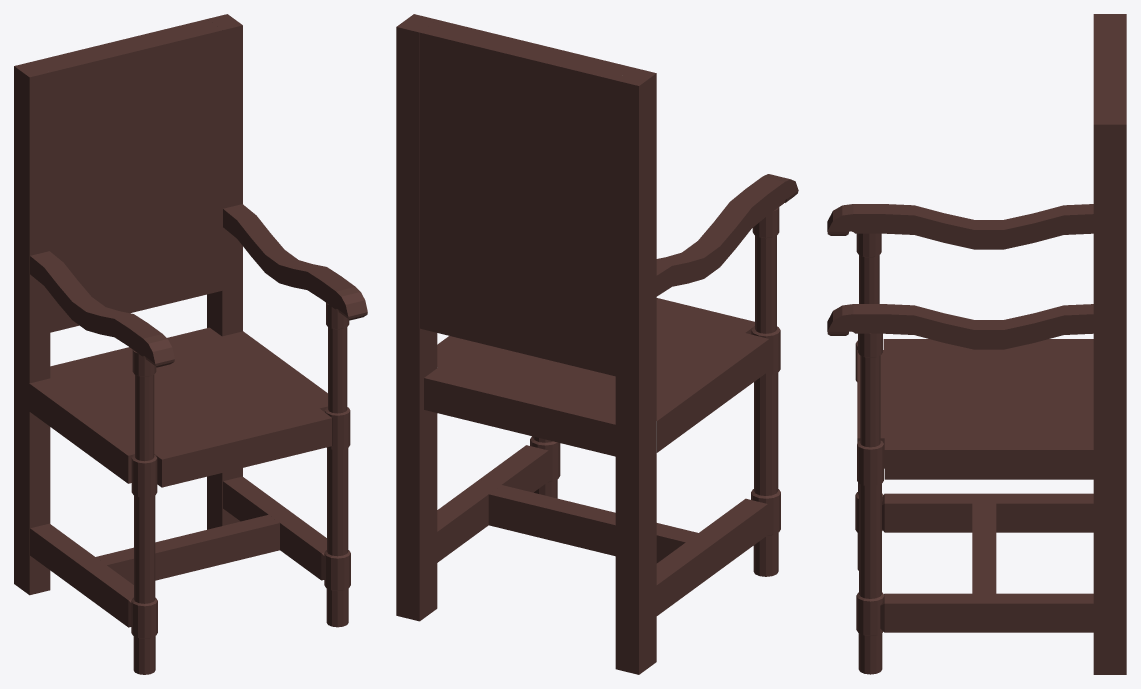
Rendered from Chair_Fancy.glb.
3 renders of one model, left to right at view 1: azimuth 30°, elevation 25°; view 2: azimuth 150°, elevation 25°; view 3: azimuth 270°, elevation 25°, orthographic. The views are drawn at different scales.
Visible parts, largest first — view 1: Chair; view 2: Chair; view 3: Chair.
Part boxes in pixels (left/top/right/bottom): Chair: left=14, top=14, right=367, bottom=674; Chair: left=396, top=14, right=798, bottom=674; Chair: left=827, top=14, right=1126, bottom=674.
Bounding box in the file's own units: 1.36 × 3.11 × 1.53.
